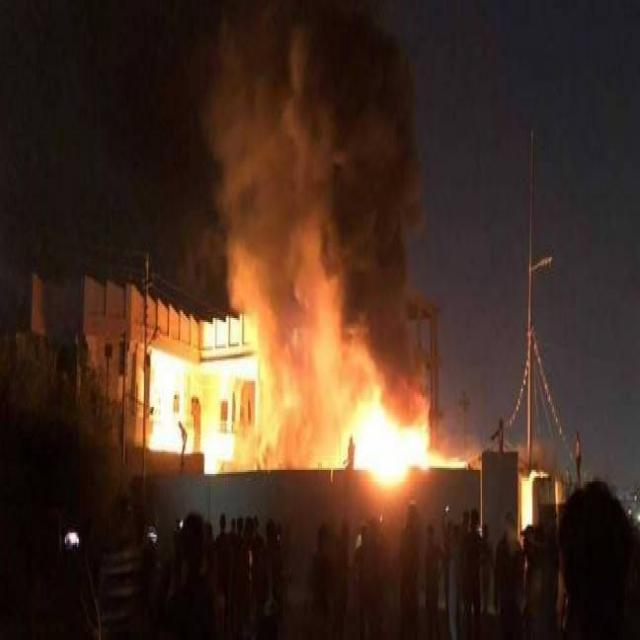Fire: (352, 383, 431, 518)
Smoke: (202, 2, 429, 415), (257, 318, 351, 458)
